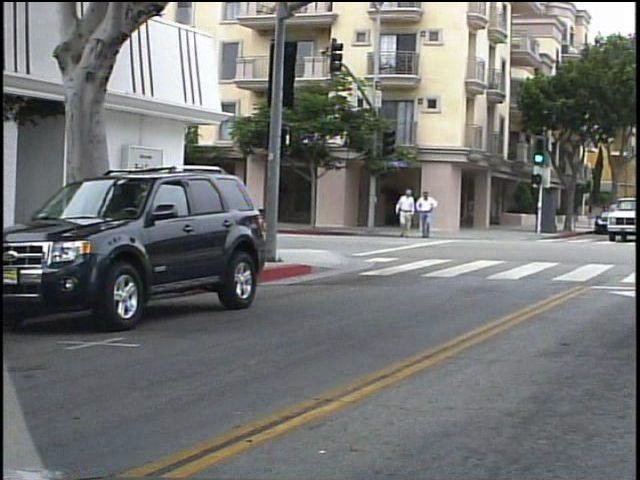person: (398, 185, 423, 246), (420, 187, 445, 242)
